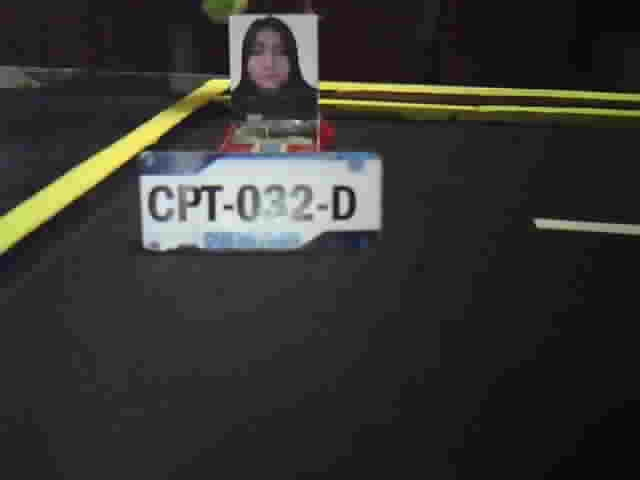PLACA: (133, 150, 386, 254)
ROSTRO: (230, 16, 318, 120)
